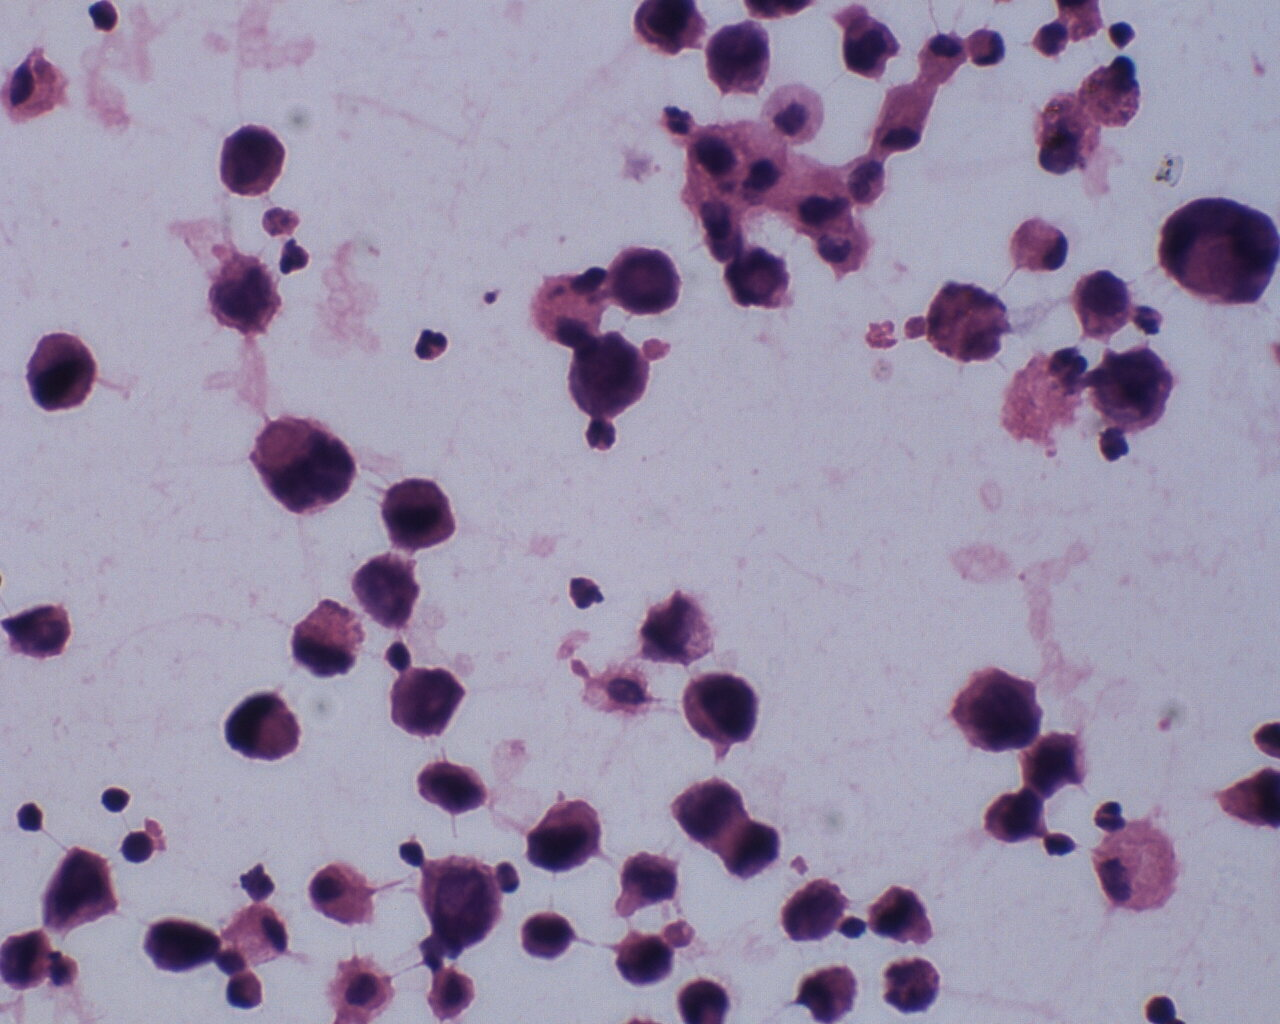ab: (1158, 194, 1278, 315), (254, 412, 355, 519), (420, 848, 503, 953), (954, 664, 1043, 754), (1090, 343, 1179, 434), (566, 330, 654, 419), (37, 846, 119, 938), (23, 327, 101, 420), (377, 469, 459, 555), (523, 794, 607, 876), (204, 253, 283, 338), (216, 118, 289, 203), (683, 667, 758, 749), (606, 242, 684, 320), (385, 659, 465, 735), (223, 689, 303, 764), (703, 21, 781, 98), (868, 880, 946, 952), (674, 775, 744, 848), (1071, 267, 1136, 343), (781, 872, 846, 946), (831, 11, 900, 80), (415, 757, 491, 817), (607, 922, 675, 990), (979, 787, 1049, 852), (1021, 730, 1085, 793), (1, 923, 48, 998), (517, 906, 580, 960)
histo: (1090, 818, 1184, 915), (1011, 211, 1071, 278)
lymph: (100, 783, 134, 818)
meso: (327, 951, 397, 1024)
neutro: (1032, 20, 1071, 62), (414, 325, 449, 365), (582, 415, 618, 453)
